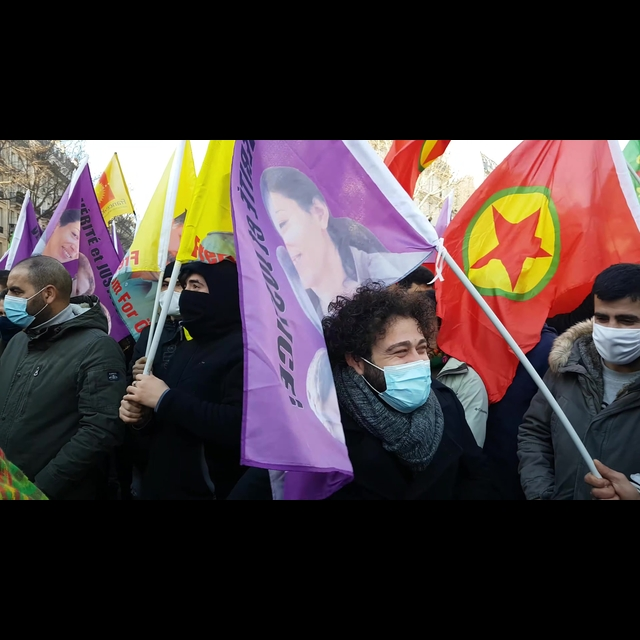PKK: (459, 169, 568, 303)
